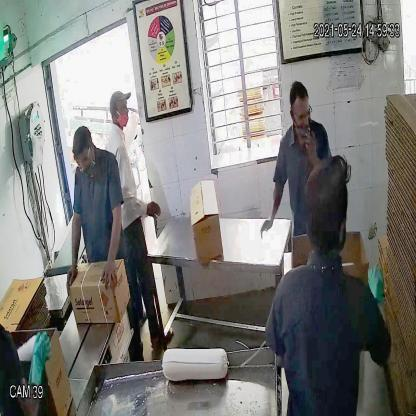goggles: (288, 104, 314, 122), (72, 150, 93, 169)
